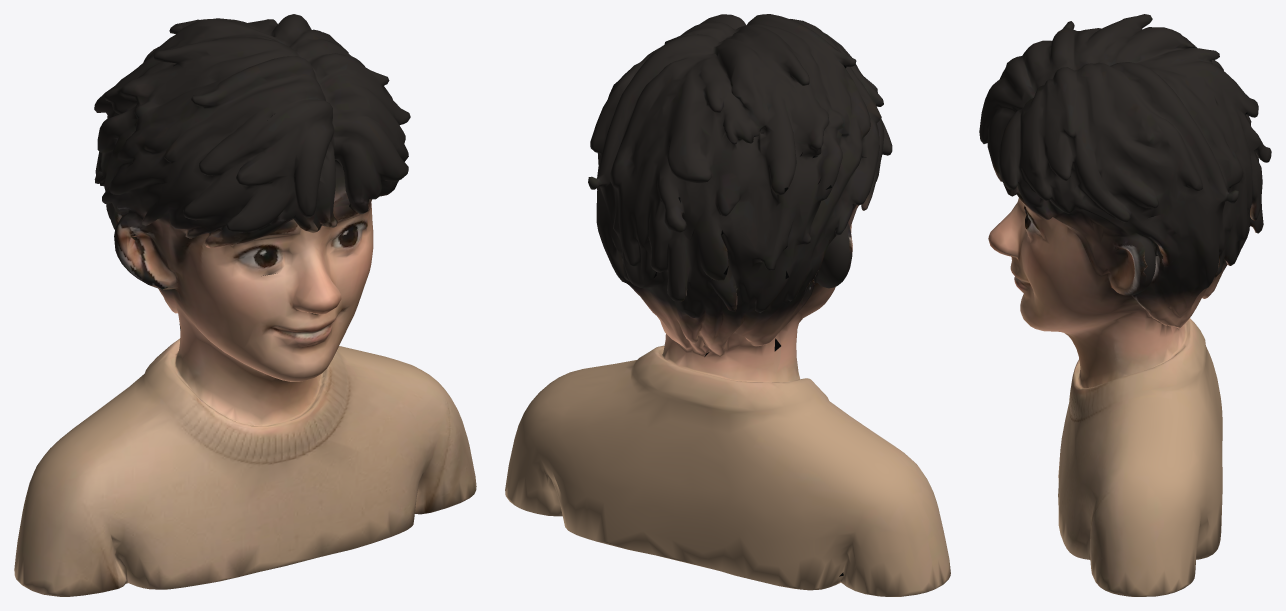
File: conny-bust.glb
3 views of the same model, side by side, from view 1: azimuth 30°, elevation 25°; view 2: azimuth 150°, elevation 25°; view 3: azimuth 270°, elevation 25° (orthographic). The views are drawn at different scales.
Parts seen in each view (by area): view 1: conny_bust; view 2: conny_bust; view 3: conny_bust.
Boxes of the visible parts, box(x1,y1,x2,y2) form: conny_bust: box(14, 14, 476, 596); conny_bust: box(505, 14, 950, 596); conny_bust: box(979, 14, 1271, 596).
Size of the model in its own units: 1.83 by 2 by 1.15.
1 material, 1 textured.
